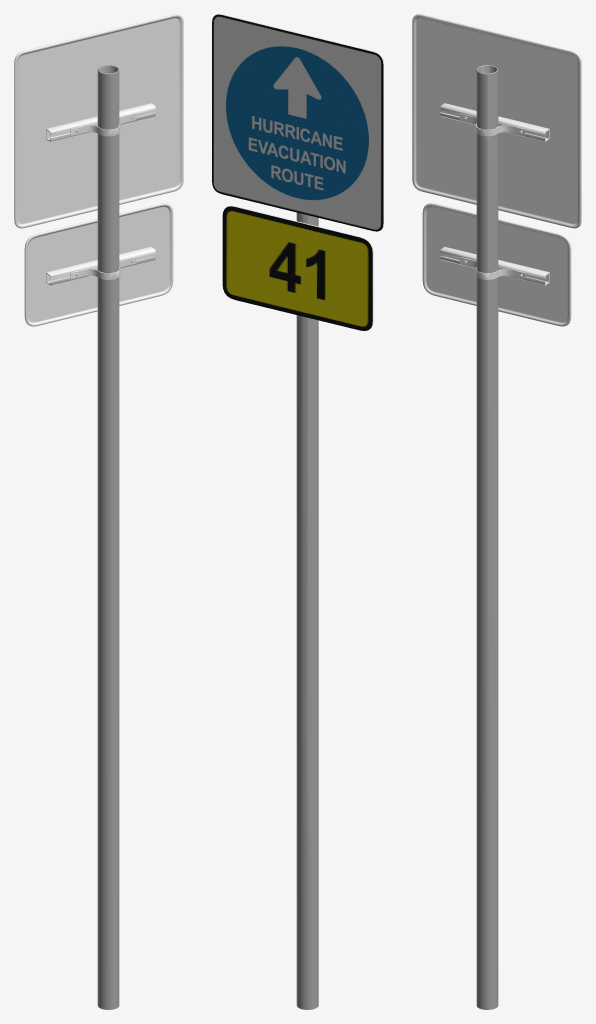
File: o3_segnale_02.glb
3 views of the same model, side by side, from view 1: azimuth 30°, elevation 25°; view 2: azimuth 150°, elevation 25°; view 3: azimuth 330°, elevation 25° (orthographic).
Parts seen in each view (by area): view 1: sb_modello; view 2: sb_modello; view 3: sb_modello.
Part boxes in pixels (left/top/right/bottom): sb_modello: left=14, top=14, right=183, bottom=1009; sb_modello: left=212, top=14, right=383, bottom=1009; sb_modello: left=412, top=14, right=581, bottom=1009.
Size of the model in its own units: 0.5276 by 2.88 by 0.0866.
Materials: 6 (2 with a texture image).
